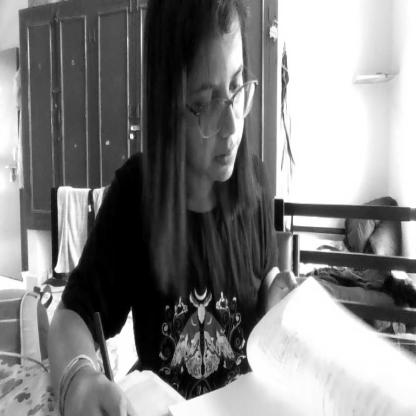Distracted: (158, 0, 250, 192)
